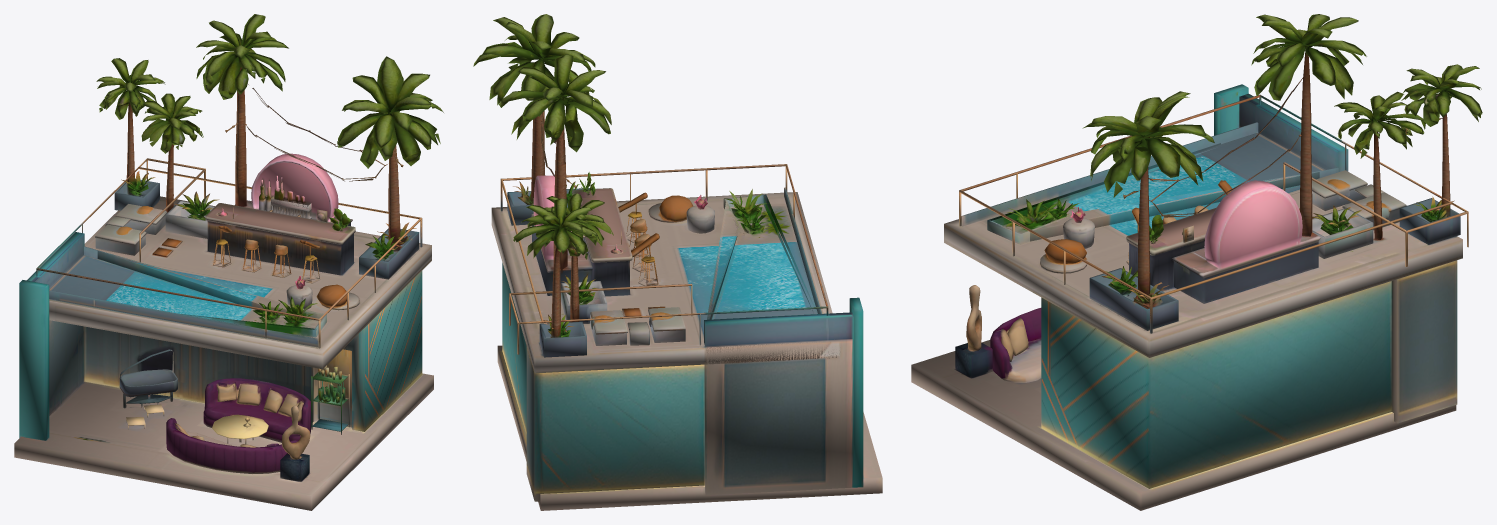
The model's file is tier5-lv22.glb.
The picture shows the model from 3 angles, left to right: view 1: azimuth 30°, elevation 25°; view 2: azimuth 150°, elevation 25°; view 3: azimuth 270°, elevation 25°; orthographic projection. The views are drawn at different scales.
Parts seen in each view (by area): view 1: tripo_node_63a8178a-1301-4395-ae2c-f1dabfc878fa; view 2: tripo_node_63a8178a-1301-4395-ae2c-f1dabfc878fa; view 3: tripo_node_63a8178a-1301-4395-ae2c-f1dabfc878fa.
Boxes of the visible parts, x1=… form: tripo_node_63a8178a-1301-4395-ae2c-f1dabfc878fa: x1=14, y1=14, x2=443, y2=510; tripo_node_63a8178a-1301-4395-ae2c-f1dabfc878fa: x1=473, y1=14, x2=882, y2=510; tripo_node_63a8178a-1301-4395-ae2c-f1dabfc878fa: x1=911, y1=14, x2=1482, y2=510.
Size of the model in its own units: 1.2 by 0.998 by 1.23.
1 material, 1 textured.
